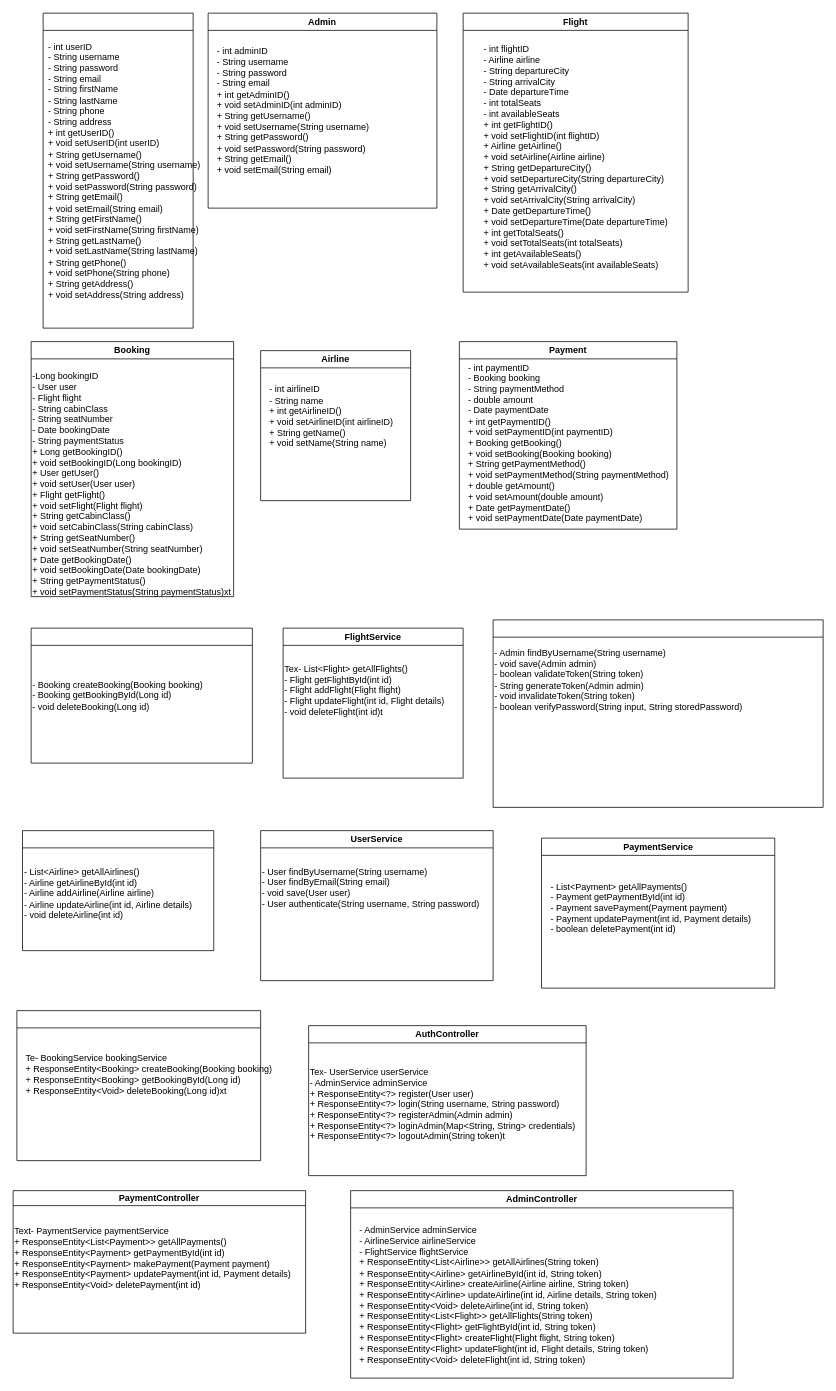
This 836x1391 diagram has some shape labels left out. The box of each missing label's shape, as (x1, y1, x2, y2) in pixels:
AdminService: (492, 619, 823, 807)
AirlineService: (22, 830, 214, 951)
BookingController: (16, 1010, 261, 1161)
BookingService: (30, 627, 252, 763)
Users: (42, 12, 193, 328)
